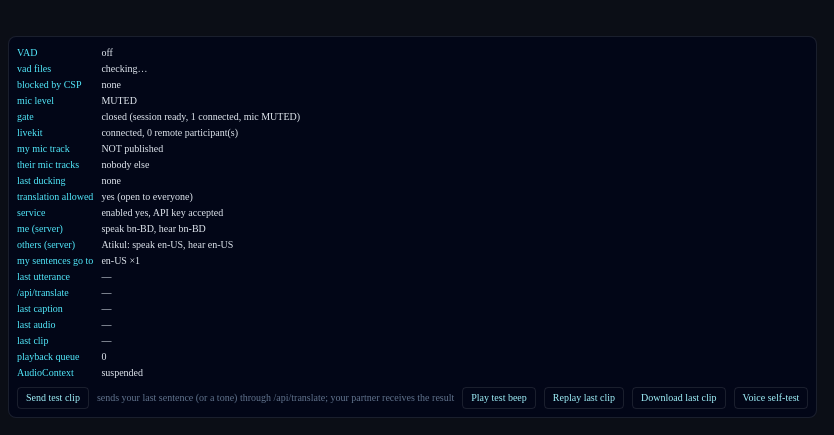
Test: translation debug overlay › "Send test clip" sends the last sentence through /api/translate and prints the exact answer
This screenshot has width=834, height=435.
Click the button "Send test clip" at (53, 398), box [17, 387, 89, 409]
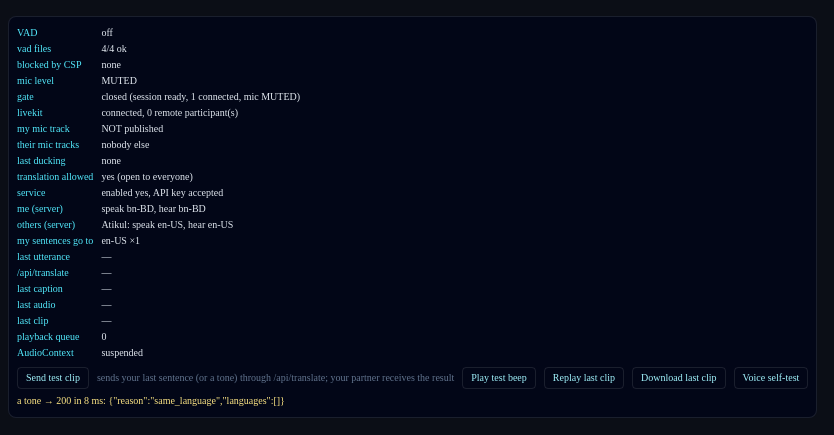
Expected: the text with test id "debug-test-result" shows "a tone → 200", [17, 395, 285, 406]
Click the button "Send test clip" at (53, 378), box [17, 367, 89, 389]
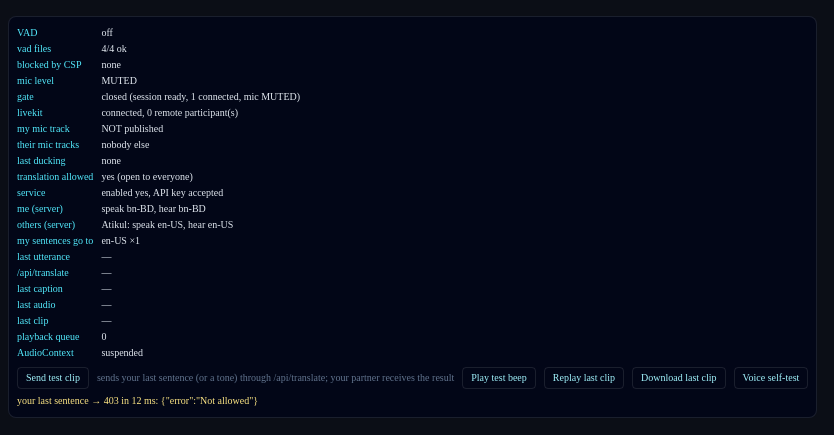
Expected: the text with test id "debug-test-result" shows "your last sentence → 403", [17, 395, 258, 406]
Expected: the text with test id "debug-test-result" shows "{\"error\":\"Not allowed\"}", [17, 395, 258, 406]
